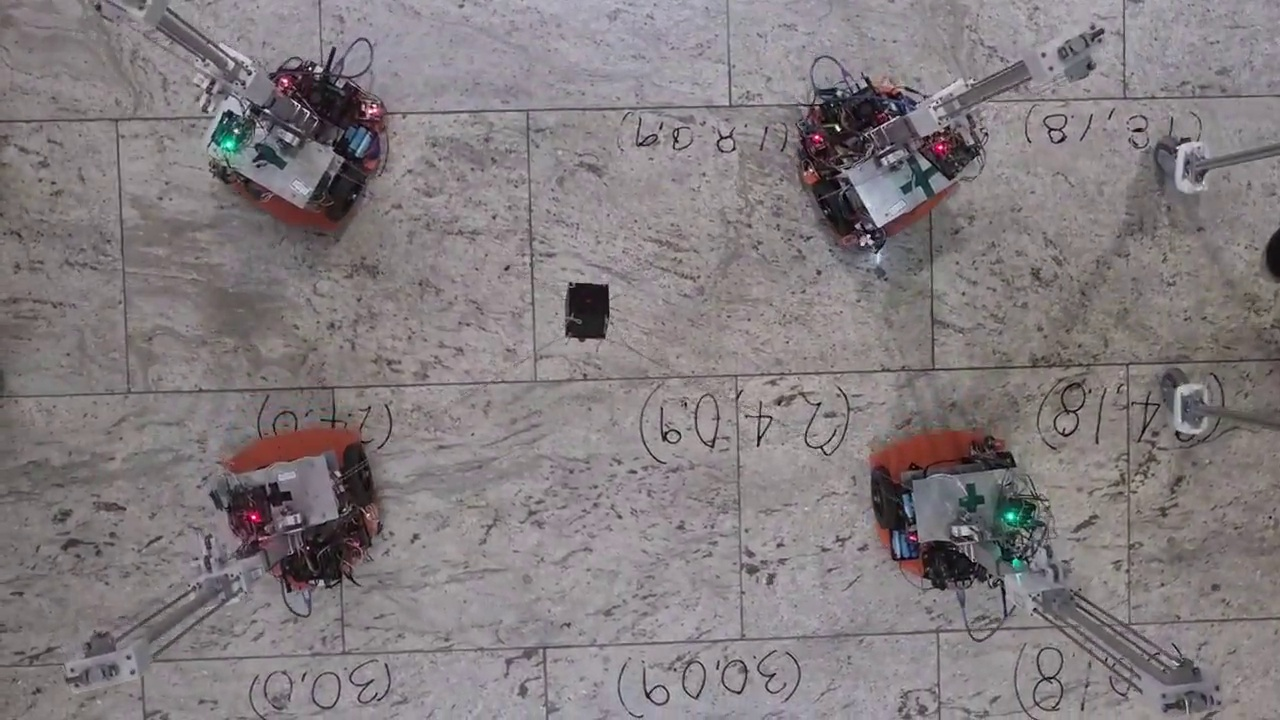e0: (562, 280, 610, 340)
r1: (868, 445, 1018, 531)
r2: (808, 123, 964, 240)
r3: (208, 116, 369, 224)
r4: (225, 440, 379, 537)
y_+_axis_vector: (736, 364, 1128, 375)
y_-_axis_vector: (333, 375, 736, 387)
